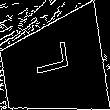L_W: (31, 47, 75, 88)
